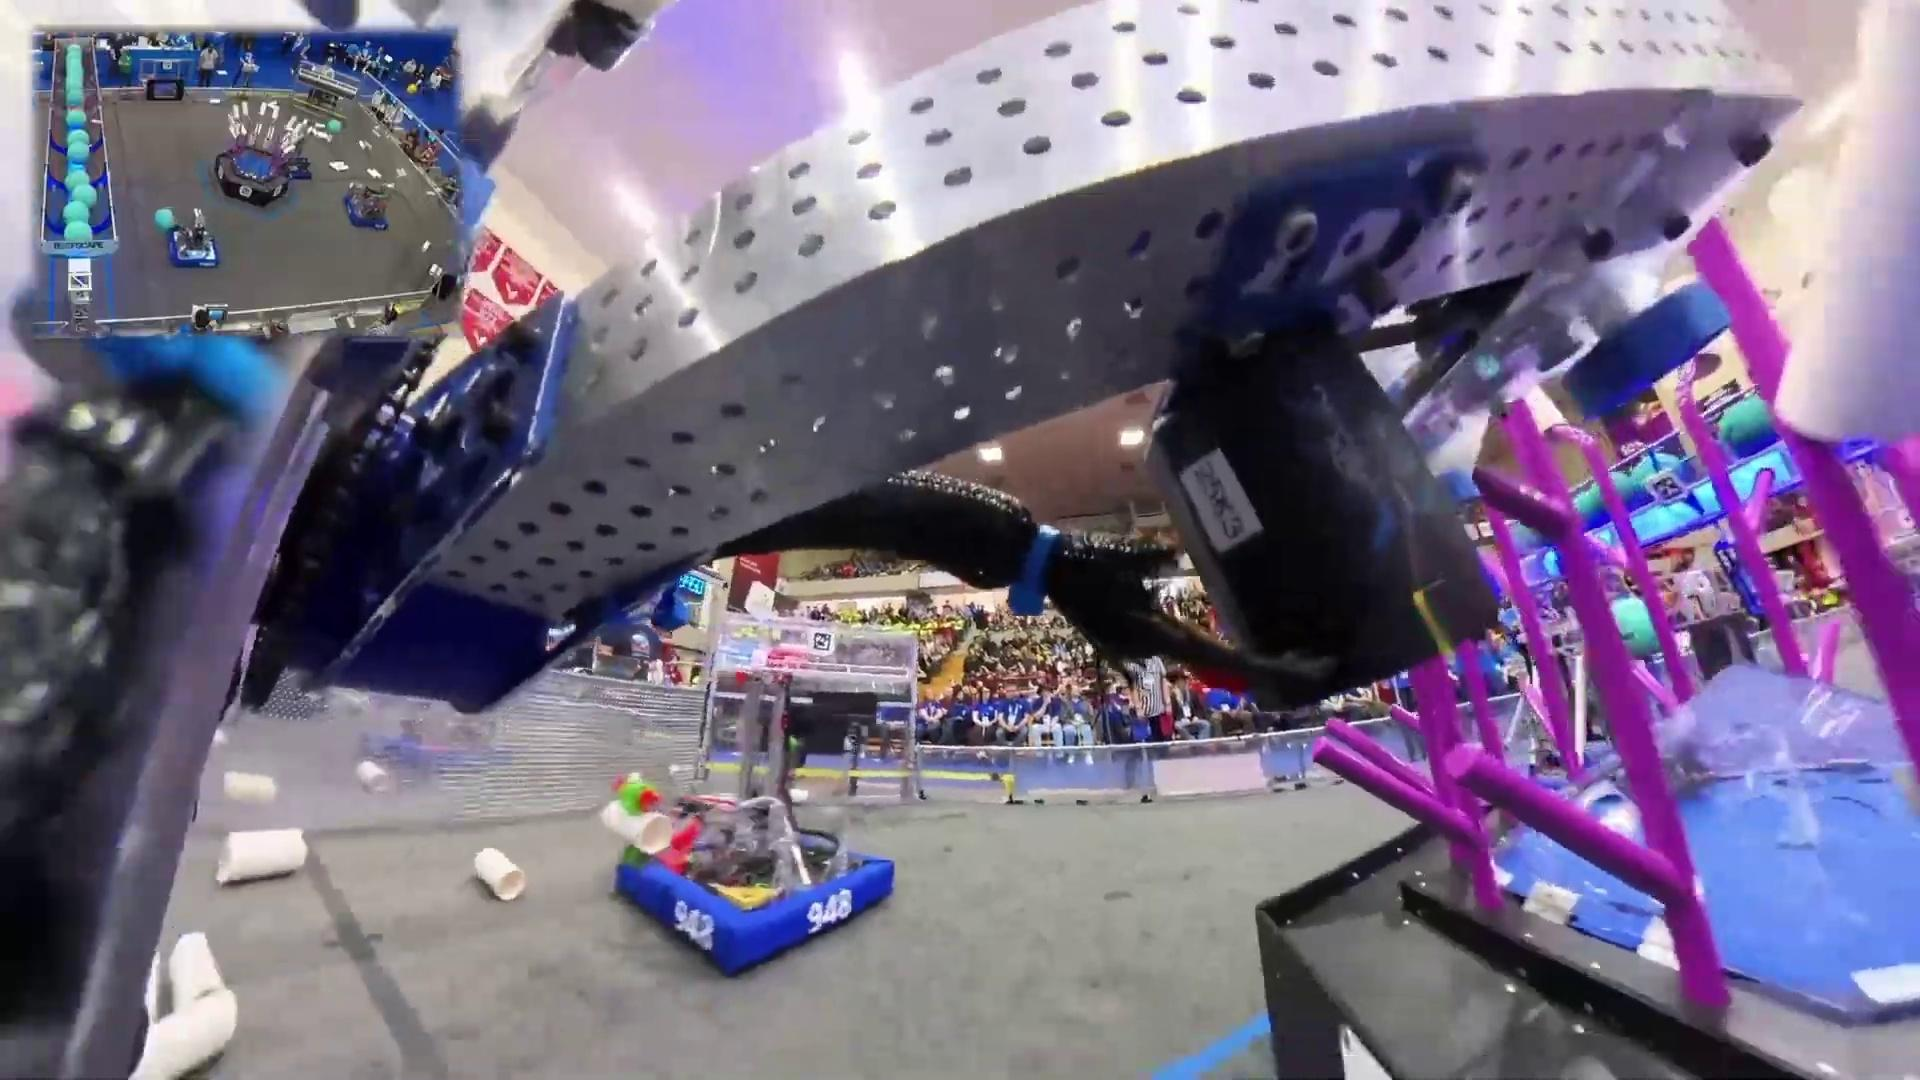robot: (613, 670, 895, 979), (167, 210, 219, 273), (343, 184, 393, 231), (283, 146, 316, 185)
